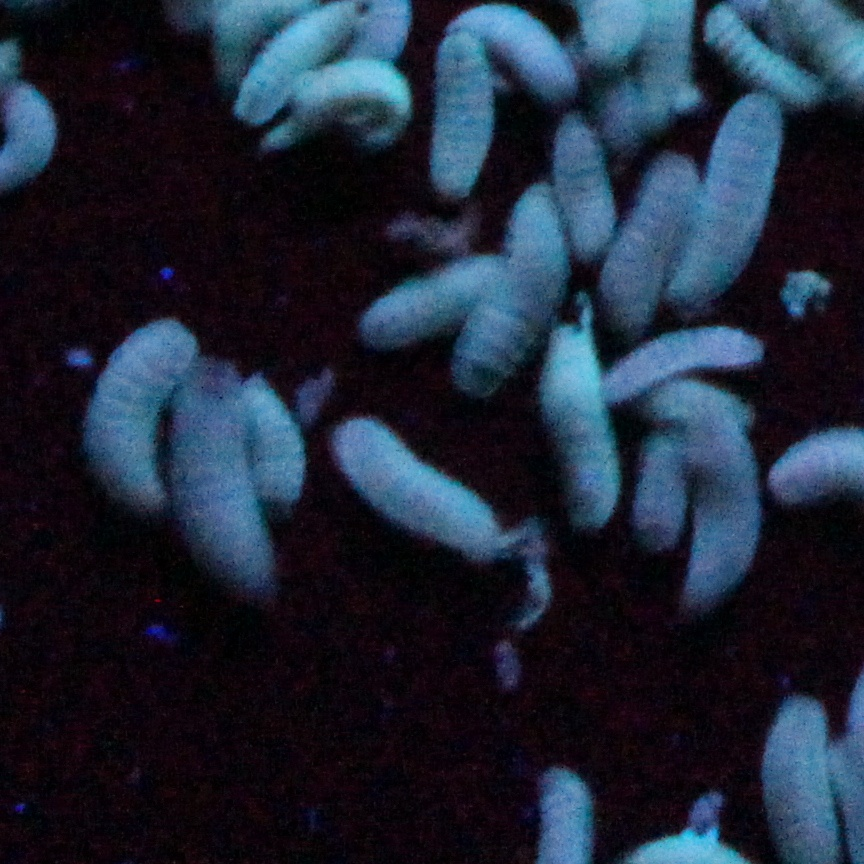larve: (326, 407, 528, 575), (157, 342, 280, 603), (665, 86, 781, 312), (459, 166, 562, 393), (528, 316, 626, 547), (74, 320, 186, 520), (355, 255, 511, 356), (688, 405, 763, 611), (753, 697, 842, 863), (601, 312, 771, 397), (423, 33, 496, 199), (609, 157, 694, 296), (548, 110, 617, 256), (242, 365, 306, 503), (639, 422, 689, 550)
